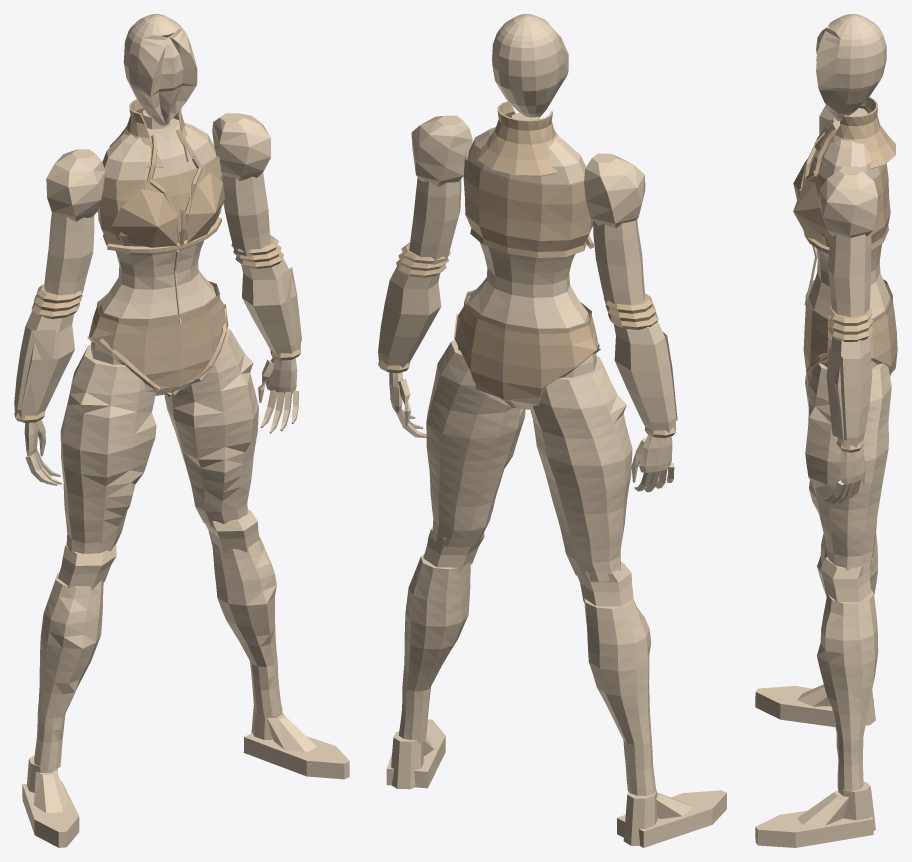
Rendered from female-heroic-2.glb.
3 renders of one model, left to right at view 1: azimuth 30°, elevation 25°; view 2: azimuth 150°, elevation 25°; view 3: azimuth 270°, elevation 25°, orthographic. The views are drawn at different scales.
Visible parts, largest first — view 1: leg_upper_l, leg_upper_r, torso, leg_lower_l, leg_lower_r, briefs, head, bracer_r, shoulder_cap_l, arm_upper_l, sports_top, shoulder_cap_r (+18 smaller); view 2: leg_upper_l, leg_upper_r, torso, sports_top, leg_lower_l, briefs, leg_lower_r, head, bracer_l, bracer_r, collar, shoulder_cap_l (+13 smaller); view 3: leg_upper_r, leg_lower_r, head, torso, shoulder_cap_r, arm_upper_r, bracer_r, foot_r, briefs, collar, foot_l, knee_r (+10 smaller).
Part boxes in pixels (x1,y1,x2,y2): leg_upper_l: (60, 344, 156, 553); leg_upper_r: (164, 328, 258, 526); torso: (91, 118, 216, 395); leg_lower_l: (34, 573, 103, 770); leg_lower_r: (212, 536, 281, 716); briefs: (87, 283, 228, 393); head: (123, 14, 197, 125); bracer_r: (241, 258, 301, 355); shoulder_cap_l: (46, 149, 105, 221); arm_upper_l: (44, 212, 94, 297); sports_top: (98, 146, 221, 246); shoulder_cap_r: (212, 113, 270, 181); leg_upper_l: (530, 356, 632, 582); leg_upper_r: (426, 339, 525, 547); torso: (458, 127, 596, 409); sports_top: (463, 152, 592, 257); leg_lower_l: (584, 598, 656, 795); briefs: (453, 292, 600, 408); leg_lower_r: (398, 554, 470, 743); head: (492, 14, 568, 117); bracer_l: (614, 321, 676, 432); bracer_r: (378, 266, 441, 367); collar: (476, 101, 558, 176); shoulder_cap_l: (584, 153, 645, 228); leg_upper_r: (805, 363, 891, 574); leg_lower_r: (817, 590, 878, 792); head: (816, 14, 886, 120); torso: (808, 119, 890, 376); shoulder_cap_r: (819, 166, 877, 238); arm_upper_r: (828, 233, 871, 316); bracer_r: (826, 336, 872, 447); foot_r: (755, 811, 873, 847); briefs: (803, 282, 897, 374); collar: (814, 96, 895, 168); foot_l: (755, 686, 873, 726); knee_r: (820, 556, 872, 603).
Bounding box in the file's own units: 0.7125 × 1.72 × 0.2923.
